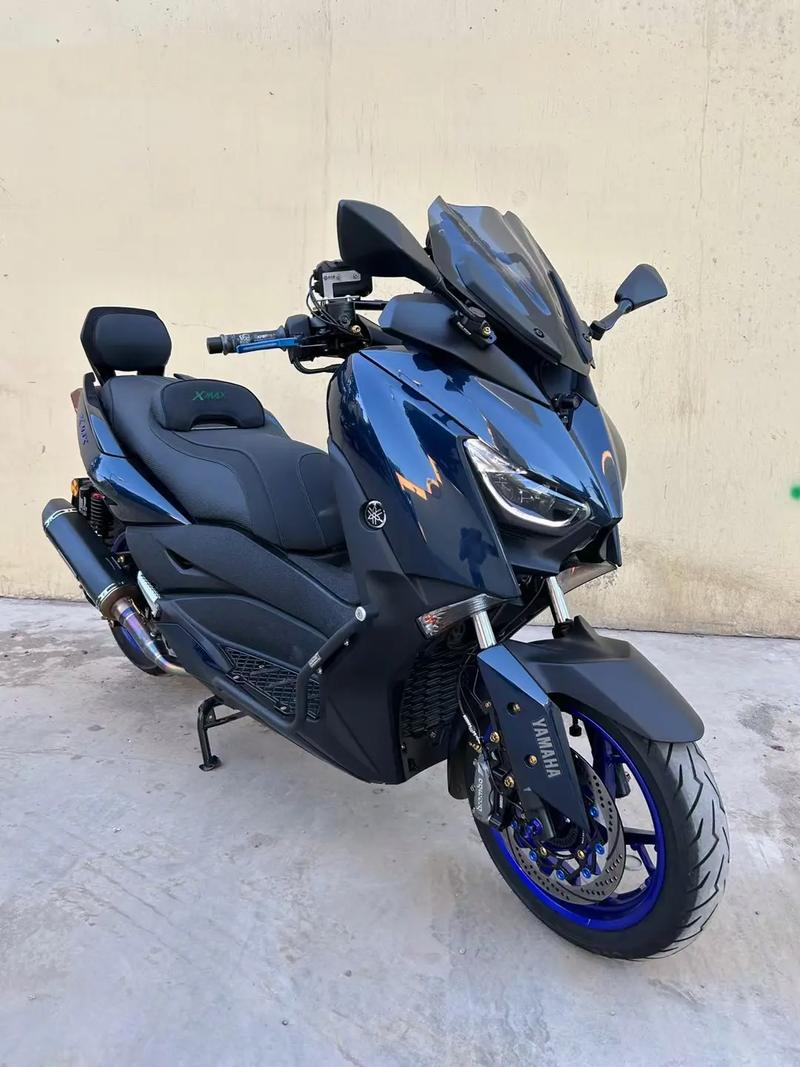摩托车: (28, 190, 747, 971)
